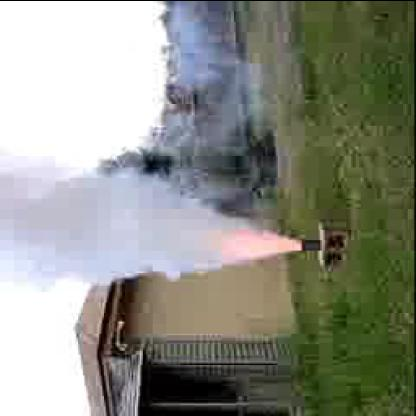Smoke: (0, 166, 307, 286)
